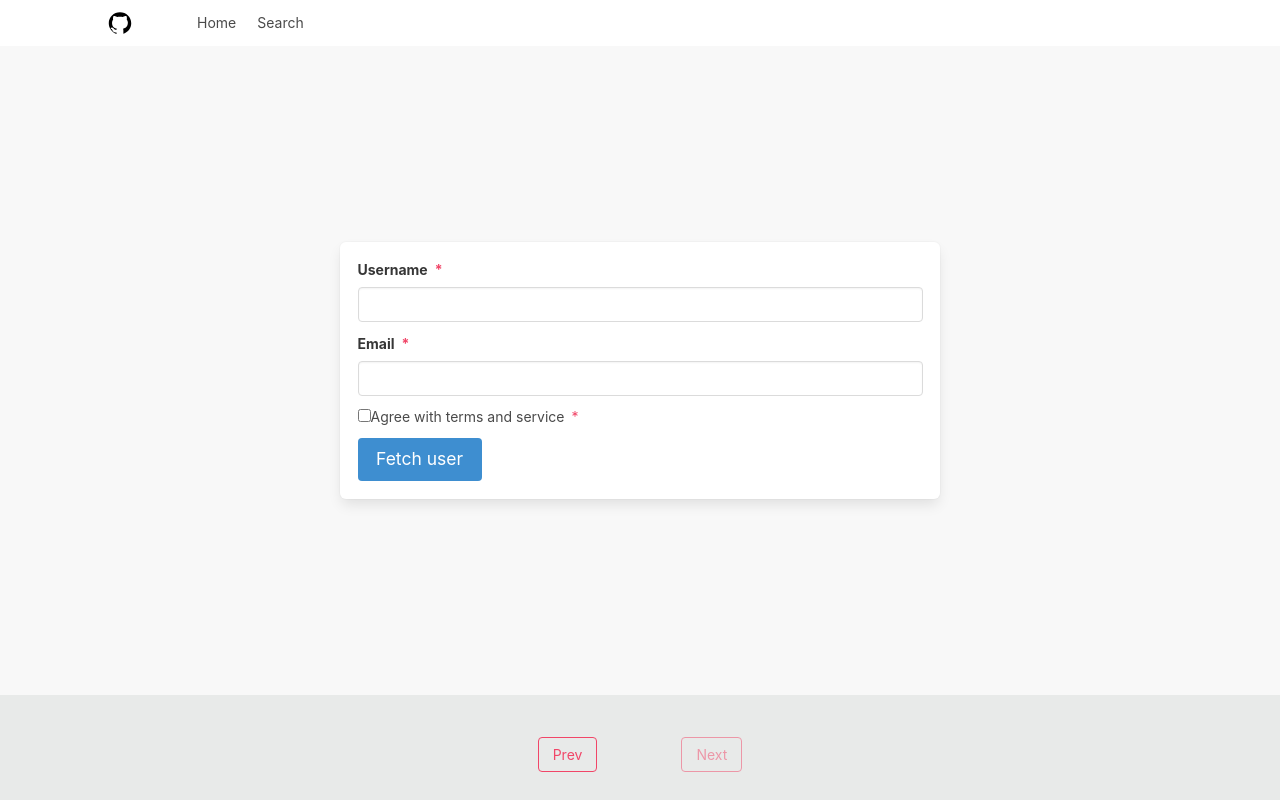
Test: @Search Page Layout › Should form not be valid if all fields are not fullfilled
Click the submit button.
click(420, 460)  # box [358,438,482,482]
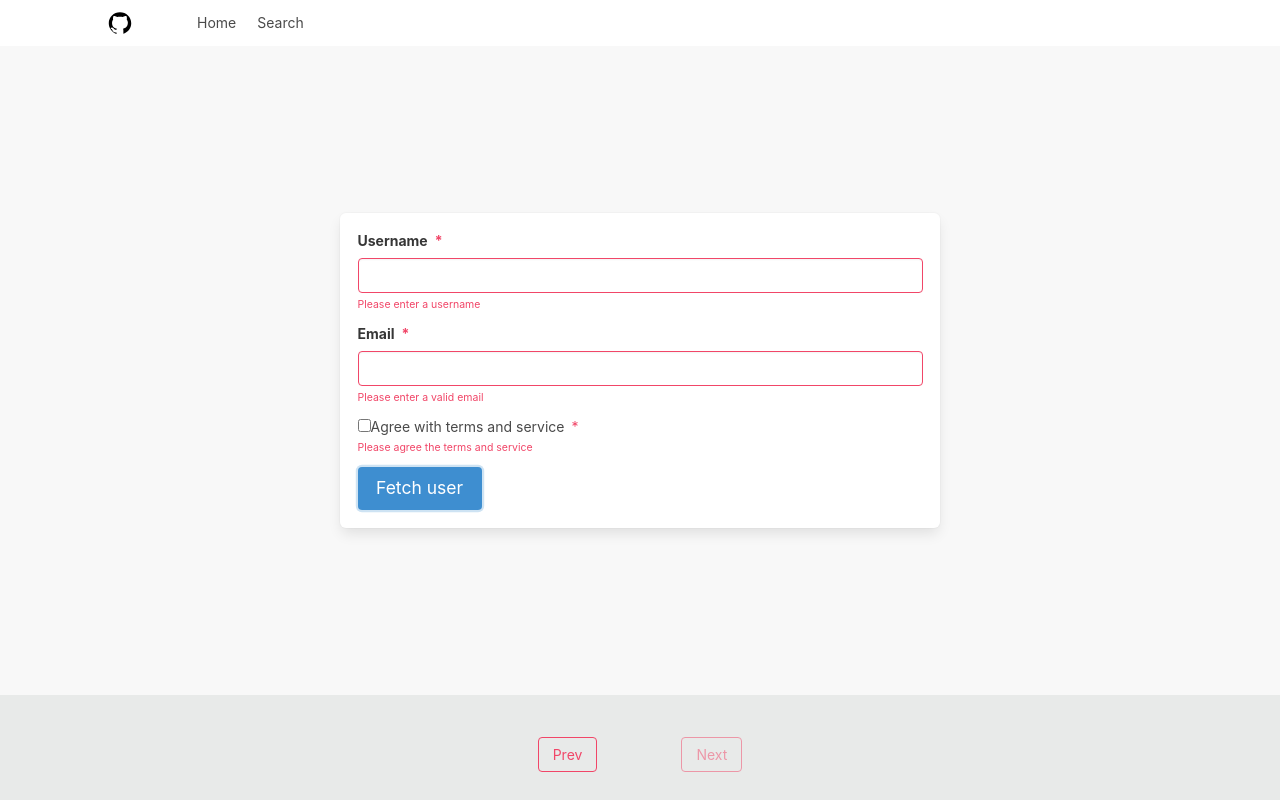
Now the number of elements with class "help" is 3, box [358,298,480,311]; [358,390,484,404]; [358,441,533,454]
